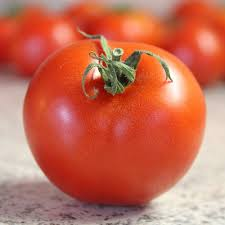tomato: (28, 40, 205, 206)
